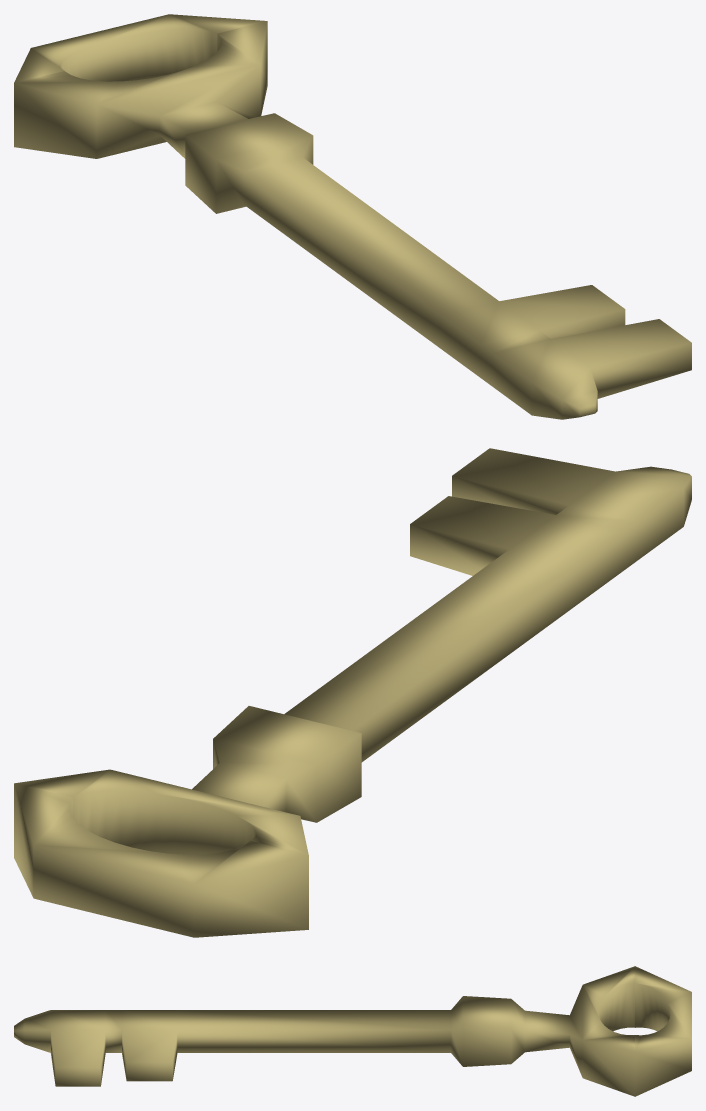
Rendered from Chave.fbx.
The picture shows the model from 3 angles, top to bottom: view 1: azimuth 30°, elevation 25°; view 2: azimuth 150°, elevation 25°; view 3: azimuth 270°, elevation 25°; orthographic projection. The views are drawn at different scales.
Parts seen in each view (by area): view 1: Cube; view 2: Cube; view 3: Cube.
Part boxes in pixels (<box>): Cube: <box>14,14,691,419</box>; Cube: <box>14,448,691,937</box>; Cube: <box>14,966,691,1096</box>.
Size of the model in its own units: 59.38 by 13.95 by 192.
